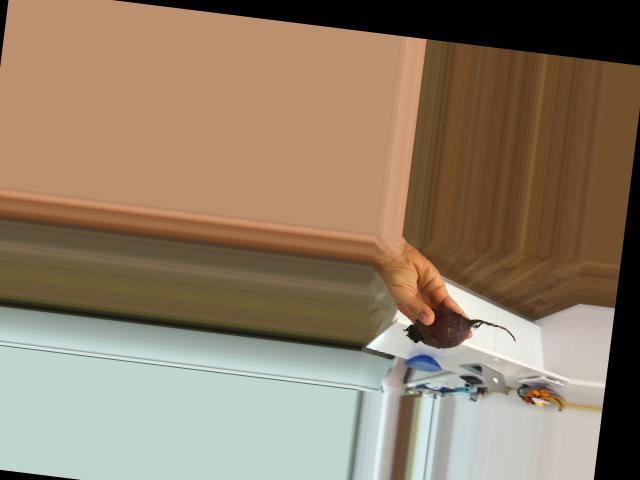beet: (403, 304, 519, 357)
